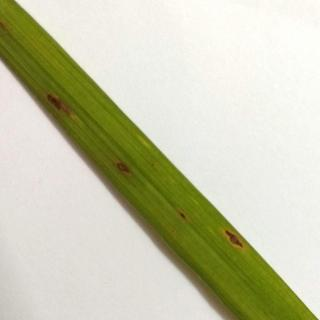Blast: (34, 76, 90, 135), (106, 148, 147, 192), (215, 220, 253, 259), (171, 200, 200, 230)
